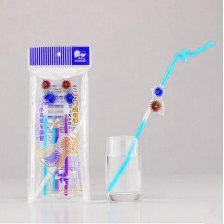drinking_straw: (101, 36, 218, 196)
glass: (102, 130, 145, 205)
